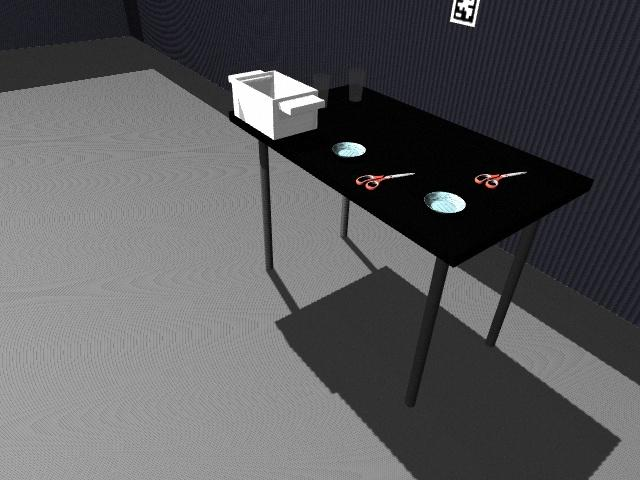cup: (347, 68, 366, 103), (312, 72, 330, 94)
plate: (422, 190, 468, 214), (331, 141, 368, 158)
scissors: (356, 171, 413, 189), (476, 170, 527, 188)
